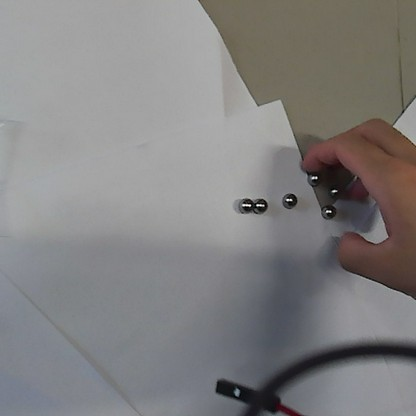ironball: (280, 189, 299, 209), (253, 194, 268, 216), (304, 168, 322, 186), (236, 195, 253, 214), (318, 205, 336, 220), (327, 182, 341, 199)
